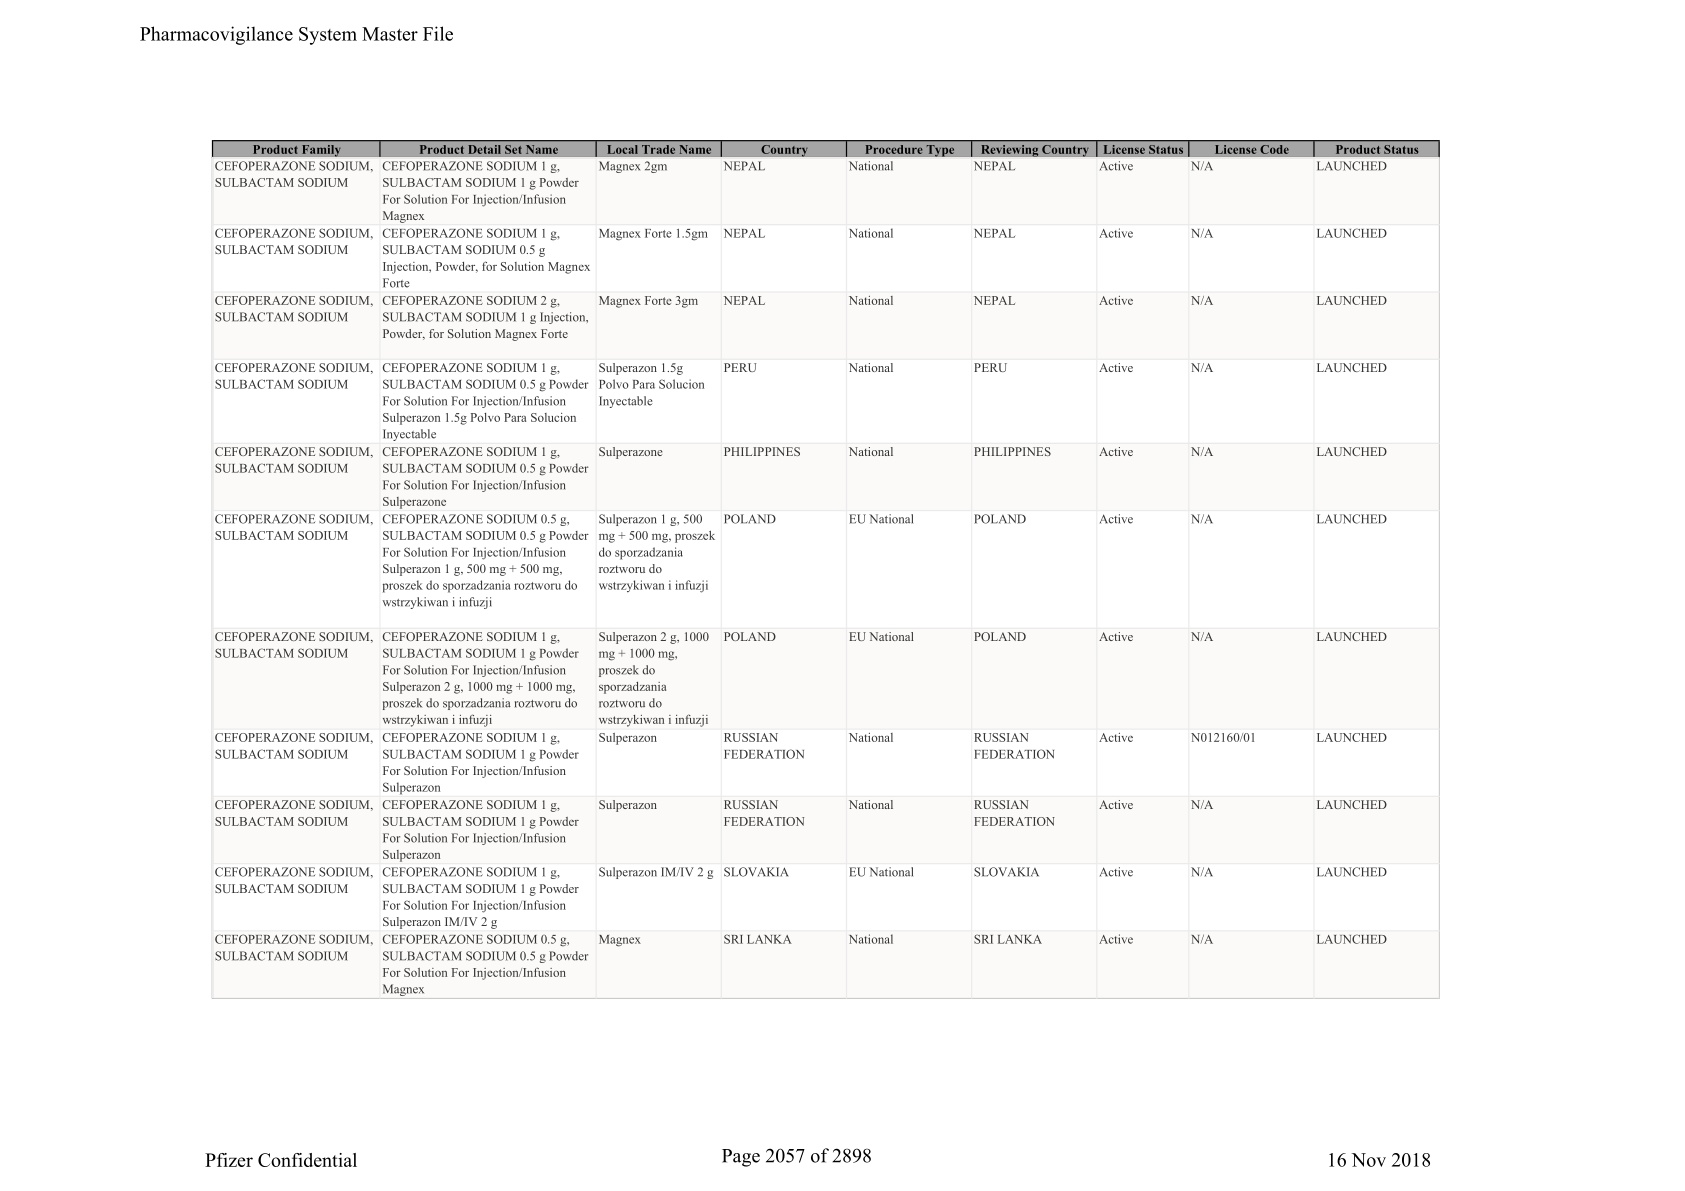full_lined: (211, 139, 1440, 999)
